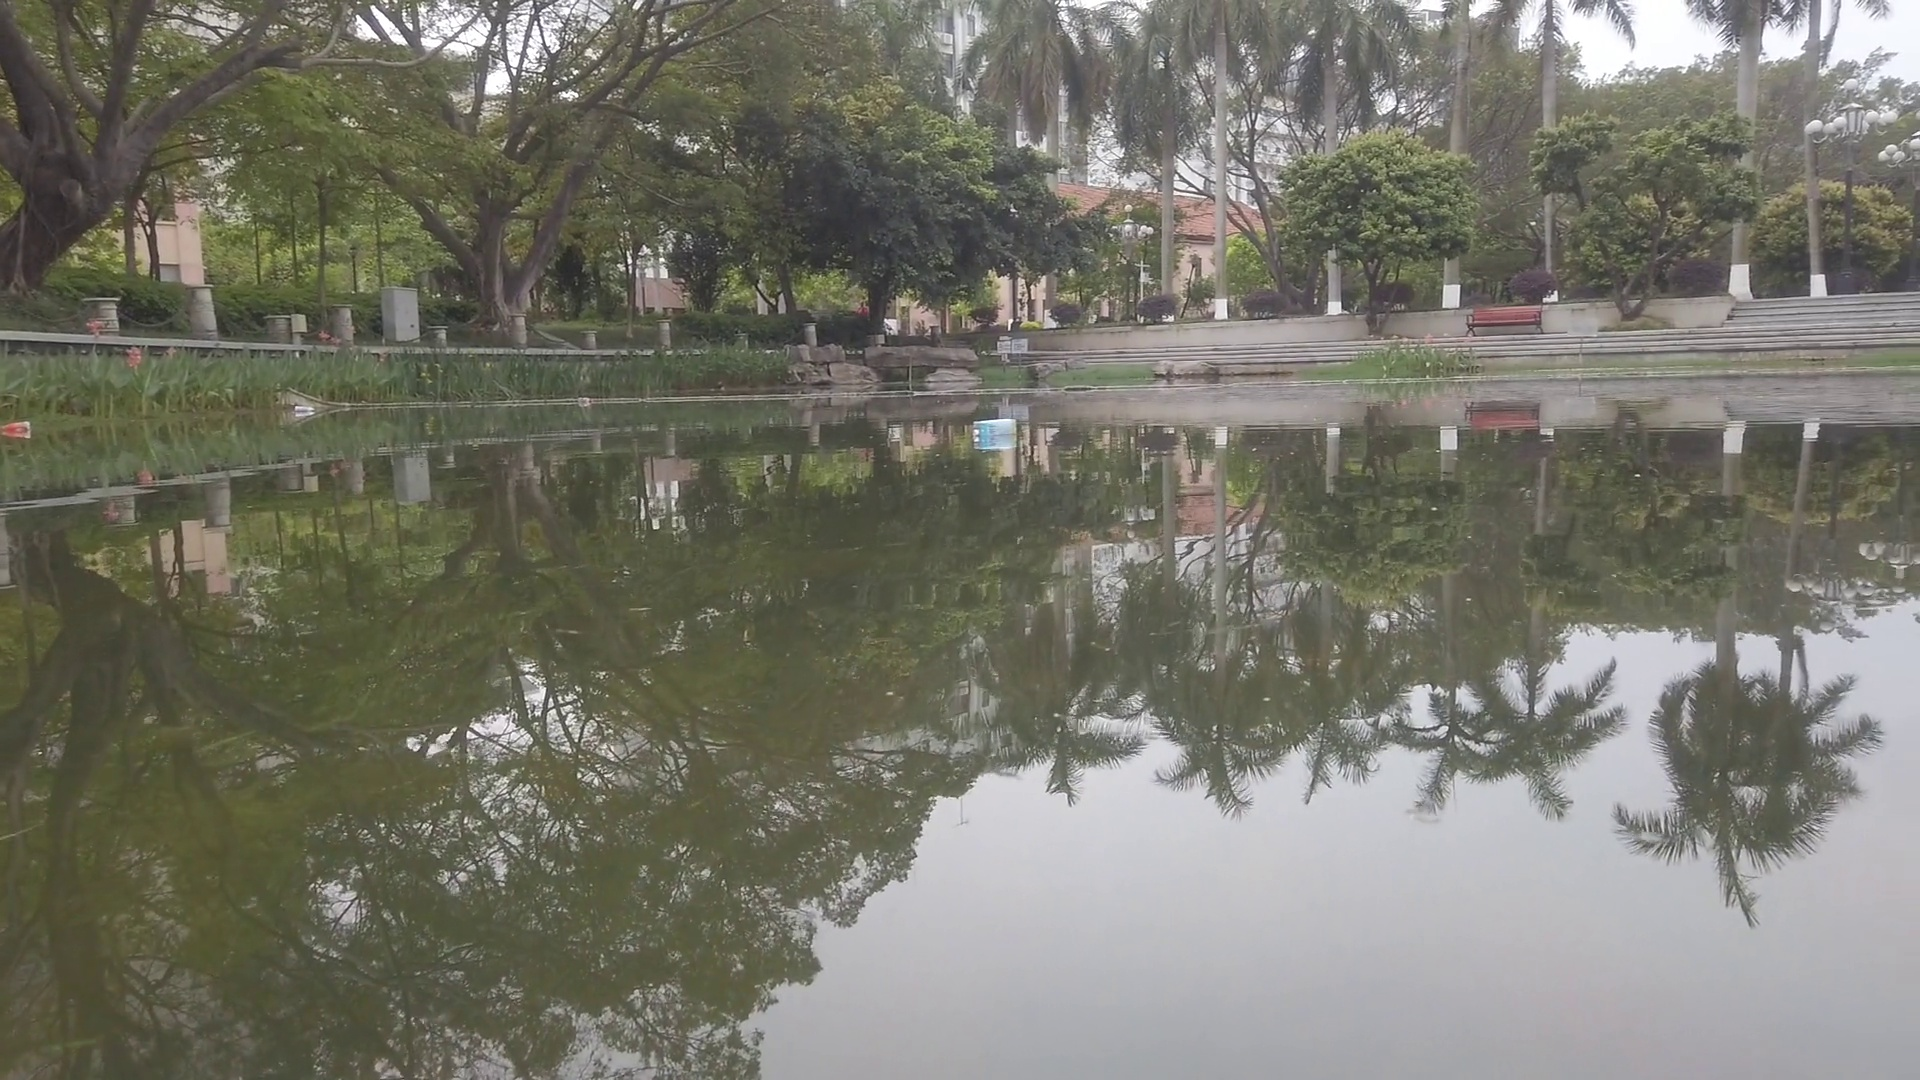bottle: (3, 421, 30, 438), (294, 405, 316, 414), (578, 397, 592, 405)
carton: (973, 419, 1019, 440)
